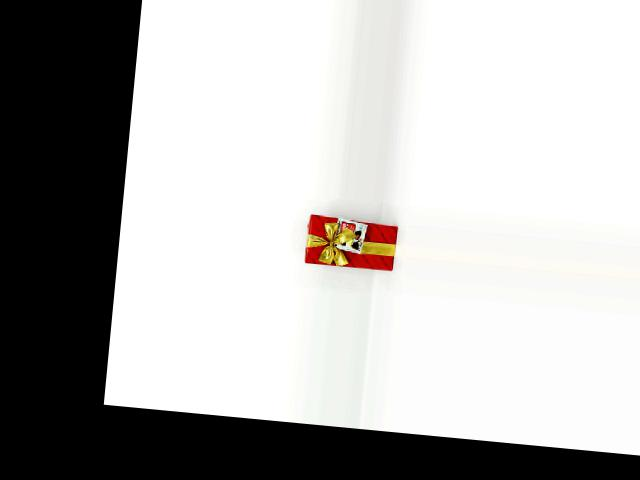chocolate: (301, 214, 397, 275)
